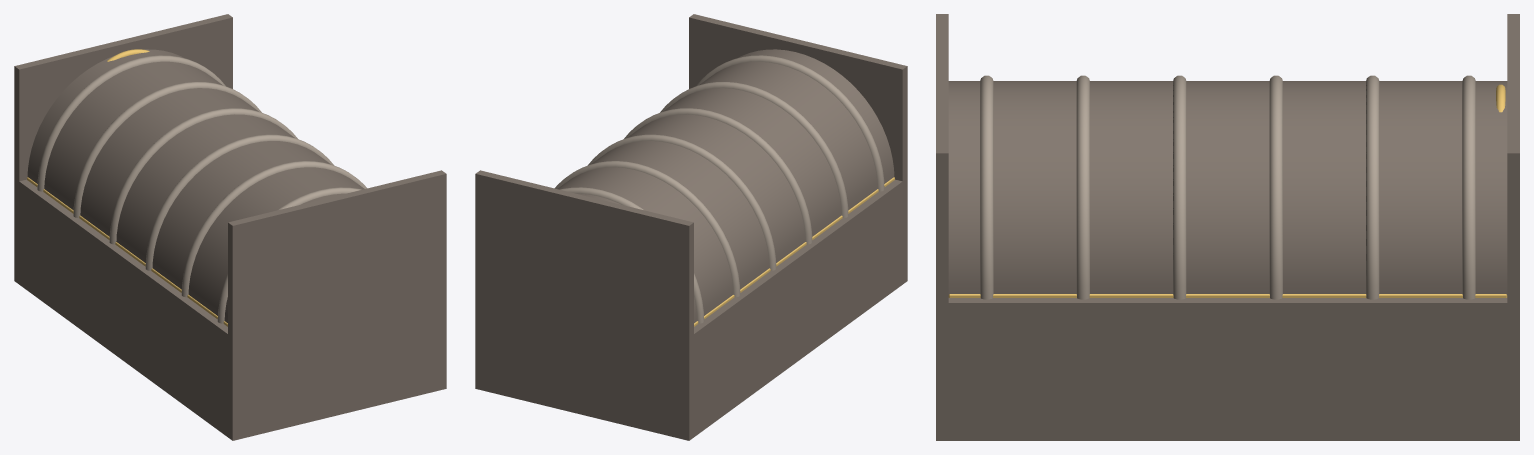
The model's file is capilla.glb.
3 views of the same model, side by side, from view 1: azimuth 30°, elevation 25°; view 2: azimuth 150°, elevation 25°; view 3: azimuth 270°, elevation 25° (orthographic). The views are drawn at different scales.
Parts seen in each view (by area): view 1: Muro_Entrada, Boveda, Muro_Izq, Muro_Fondo, ArcoPiedra_4, ArcoPiedra_2, ArcoPiedra_5, ArcoPiedra_3, ArcoPiedra_1, ArcoPiedra_0, Cornisa_I; view 2: Muro_Fondo, Boveda, Muro_Izq, Muro_Entrada, ArcoPiedra_1, ArcoPiedra_0, ArcoPiedra_3, ArcoPiedra_2, ArcoPiedra_4, ArcoPiedra_5, Cornisa_I; view 3: Boveda, Muro_Der, Muro_Entrada, Muro_Fondo, ArcoPiedra_1, ArcoPiedra_4, ArcoPiedra_0, ArcoPiedra_2, ArcoPiedra_3, ArcoPiedra_5, Cornisa_D.
Boxes of the visible parts, x1,y1,x2,y2 form: Muro_Entrada: [228, 170, 446, 440]; Boveda: [27, 49, 364, 323]; Muro_Izq: [19, 179, 227, 436]; Muro_Fondo: [14, 14, 232, 284]; ArcoPiedra_4: [73, 82, 261, 217]; ArcoPiedra_2: [145, 134, 333, 270]; ArcoPiedra_5: [37, 55, 225, 191]; ArcoPiedra_3: [109, 108, 297, 244]; ArcoPiedra_1: [181, 161, 367, 297]; ArcoPiedra_0: [217, 187, 361, 323]; Cornisa_I: [27, 177, 227, 326]; Muro_Fondo: [475, 170, 693, 440]; Boveda: [557, 49, 894, 323]; Muro_Izq: [694, 179, 902, 436]; Muro_Entrada: [689, 14, 907, 284]; ArcoPiedra_1: [660, 82, 848, 217]; ArcoPiedra_0: [696, 55, 884, 191]; ArcoPiedra_3: [588, 134, 776, 270]; ArcoPiedra_2: [624, 108, 812, 244]; ArcoPiedra_4: [554, 161, 740, 297]; ArcoPiedra_5: [560, 187, 704, 323]; Cornisa_I: [694, 177, 894, 326]; Boveda: [948, 81, 1507, 294]; Muro_Der: [948, 298, 1507, 440]; Muro_Entrada: [936, 14, 948, 440]; Muro_Fondo: [1507, 14, 1519, 440]; ArcoPiedra_1: [1076, 75, 1089, 299]; ArcoPiedra_4: [1366, 75, 1379, 299]; ArcoPiedra_0: [980, 75, 993, 299]; ArcoPiedra_2: [1173, 75, 1186, 299]; ArcoPiedra_3: [1269, 75, 1282, 299]; ArcoPiedra_5: [1462, 75, 1475, 299]; Cornisa_D: [948, 294, 1507, 297].
Bounding box in the file's own units: 13 × 12.7 × 23.
